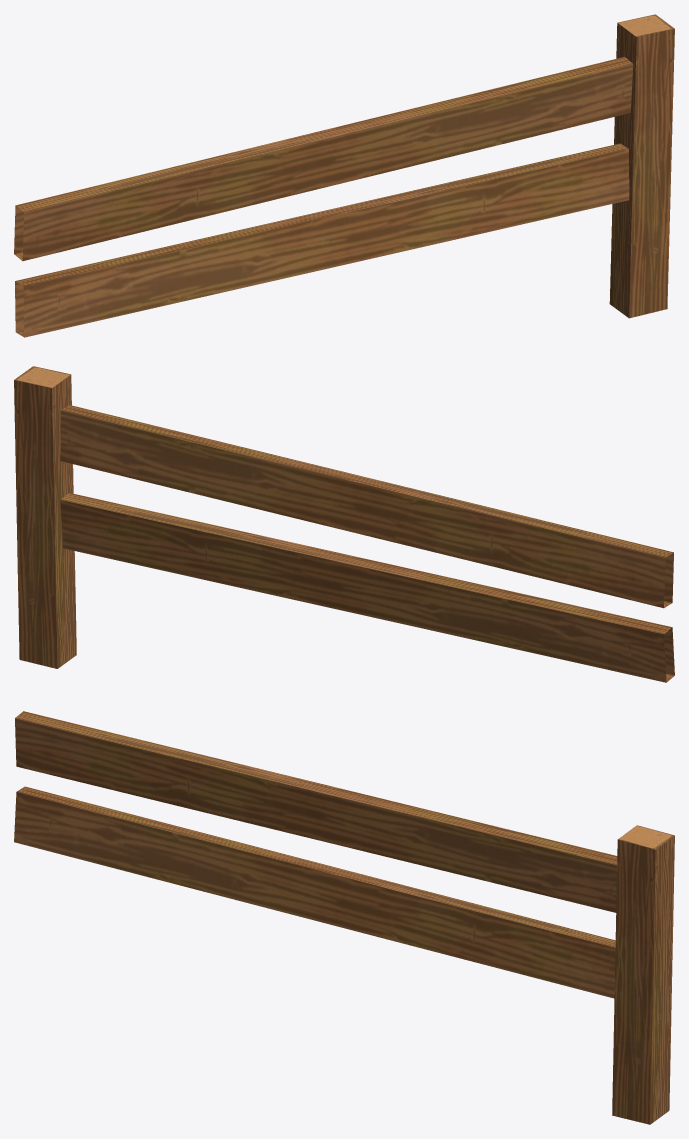
The model's file is Prop_WoodenFence_Extension2.gltf.
The picture shows the model from 3 angles, top to bottom: view 1: azimuth 30°, elevation 25°; view 2: azimuth 150°, elevation 25°; view 3: azimuth 330°, elevation 25°; orthographic projection.
Visible parts, largest first — view 1: Prop_WoodenFence_Extension2; view 2: Prop_WoodenFence_Extension2; view 3: Prop_WoodenFence_Extension2.
Boxes of the visible parts, x1,y1,x2,y2 form: Prop_WoodenFence_Extension2: (14,14,674,337); Prop_WoodenFence_Extension2: (14,366,674,682); Prop_WoodenFence_Extension2: (14,711,674,1124).
Size of the model in its own units: 2.03 by 0.8381 by 0.1104.
1 material, 1 textured.
